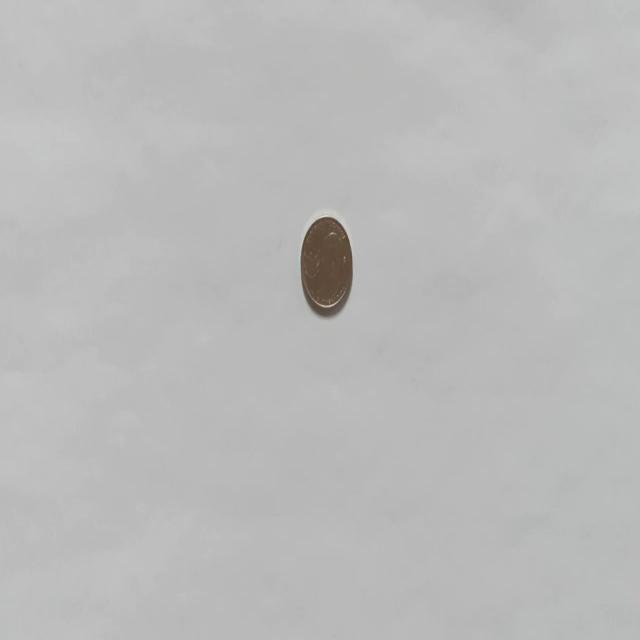seribu rupiah koin: (298, 212, 354, 316)
